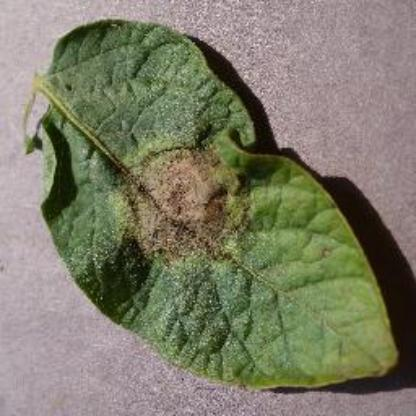Late-Blight: (22, 20, 404, 392)
